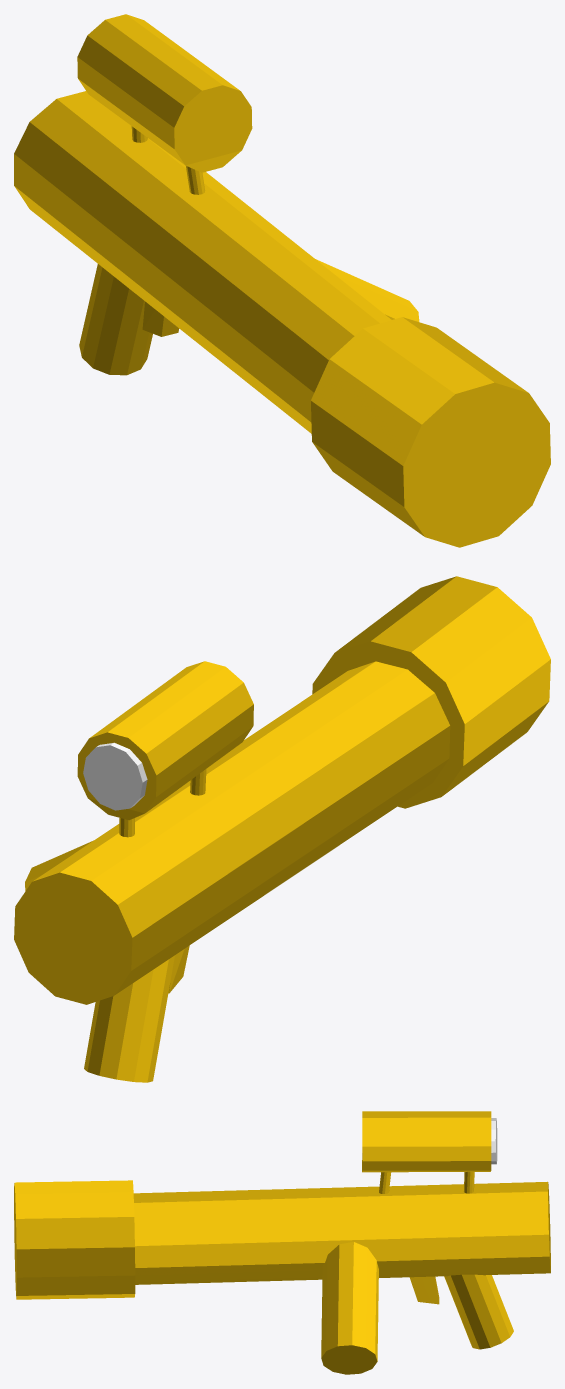
Rendered from Launcher.dae.
The picture shows the model from 3 angles, top to bottom: view 1: azimuth 30°, elevation 25°; view 2: azimuth 150°, elevation 25°; view 3: azimuth 270°, elevation 25°; orthographic projection. The views are drawn at different scales.
Parts seen in each view (by area): view 1: Launcher; view 2: Launcher; view 3: Launcher.
Part boxes in pixels (box(x1,y1,x2,y2)): Launcher: box(14, 14, 550, 547); Launcher: box(14, 576, 550, 1082); Launcher: box(14, 1111, 550, 1374).
Bounding box in the file's own units: 0.3939 × 1.04 × 0.4945.
